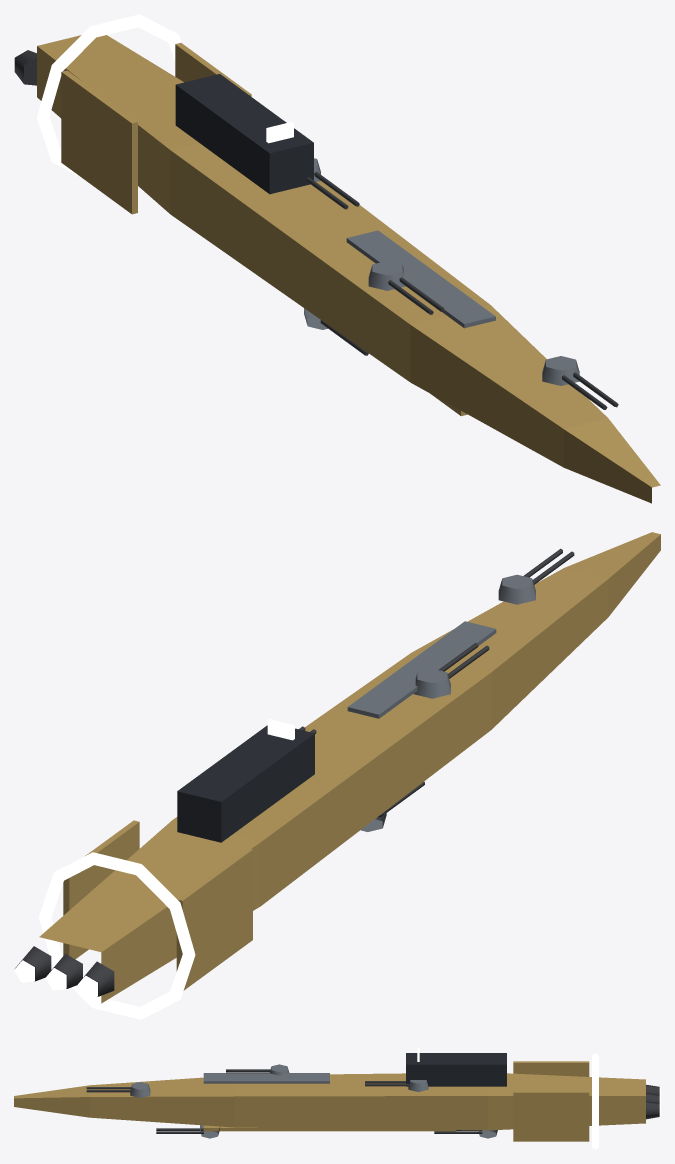
File: space_ship_frigate_mk7_lod1.glb
3 renders of one model, top to bottom at view 1: azimuth 30°, elevation 25°; view 2: azimuth 150°, elevation 25°; view 3: azimuth 270°, elevation 25°, orthographic. The views are drawn at different scales.
Parts seen in each view (by area): view 1: body, turret_0, turret_2; view 2: body, turret_0, turret_2, engine_0, engine_2, engine_1; view 3: body, turret_0, turret_4, turret_1, turret_2, turret_5, engine_2.
Boxes of the visible parts, bbox=[...] form: body: bbox=[37, 14, 660, 503]; turret_0: bbox=[542, 356, 618, 409]; turret_2: bbox=[368, 261, 444, 314]; body: bbox=[39, 532, 660, 1019]; turret_0: bbox=[498, 548, 574, 604]; turret_2: bbox=[413, 643, 489, 698]; engine_0: bbox=[77, 961, 114, 998]; engine_2: bbox=[14, 946, 51, 982]; engine_1: bbox=[45, 954, 82, 990]; body: bbox=[14, 1048, 645, 1149]; turret_0: bbox=[86, 1082, 150, 1097]; turret_4: bbox=[365, 1080, 428, 1091]; turret_1: bbox=[156, 1125, 219, 1138]; turret_2: bbox=[226, 1064, 289, 1075]; turret_5: bbox=[434, 1130, 497, 1138]; engine_2: bbox=[646, 1101, 660, 1119].
Size of the model in its own units: 7.96 by 8.3 by 52.82.
